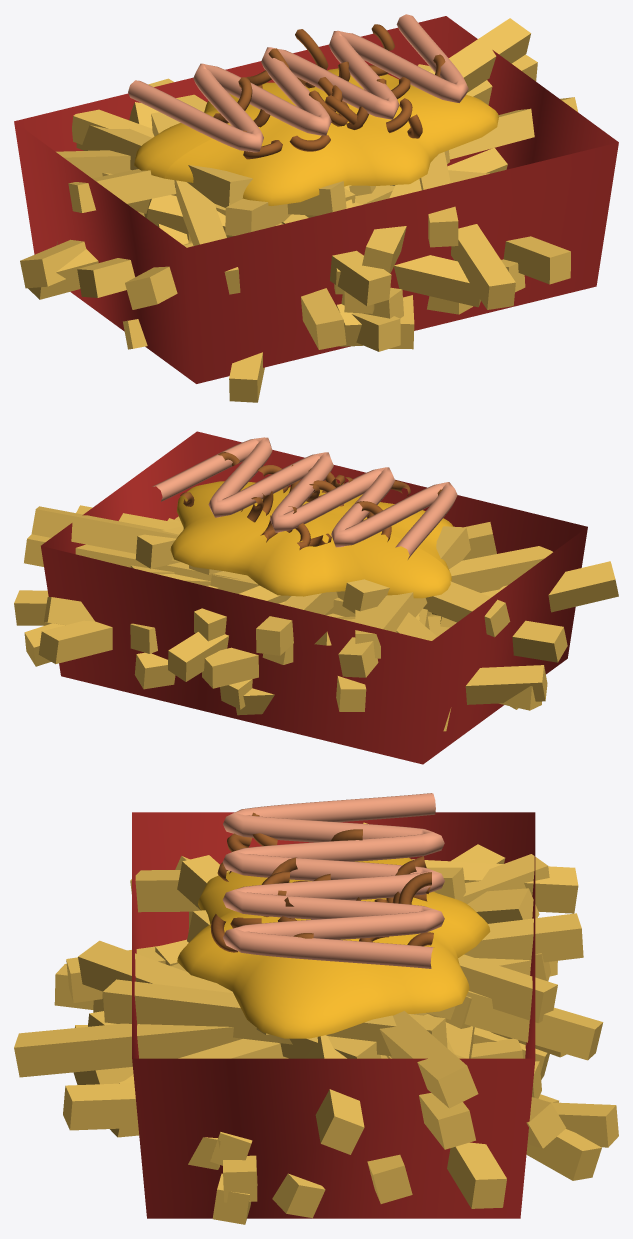
Rendered from animal-fries.glb.
The picture shows the model from 3 angles, top to bottom: view 1: azimuth 30°, elevation 25°; view 2: azimuth 150°, elevation 25°; view 3: azimuth 270°, elevation 25°; orthographic projection. The views are drawn at different scales.
Visible parts, largest first — view 1: Tray, Fries, Melted_Cheese, Spread, Grilled_Onions; view 2: Tray, Fries, Melted_Cheese, Spread, Grilled_Onions; view 3: Fries, Tray, Spread, Melted_Cheese, Grilled_Onions.
Boxes of the visible parts, x1=… form: Tray: x1=14, y1=16, x2=618, y2=383; Fries: x1=20, y1=18, x2=577, y2=402; Melted_Cheese: x1=134, y1=68, x2=498, y2=205; Spread: x1=128, y1=14, x2=468, y2=152; Grilled_Onions: x1=213, y1=24, x2=445, y2=159; Tray: x1=41, y1=431, x2=587, y2=764; Fries: x1=14, y1=505, x2=618, y2=731; Melted_Cheese: x1=170, y1=481, x2=453, y2=598; Spread: x1=152, y1=437, x2=457, y2=559; Grilled_Onions: x1=180, y1=452, x2=442, y2=549; Fries: x1=14, y1=822, x2=618, y2=1224; Tray: x1=132, y1=812, x2=535, y2=1218; Spread: x1=222, y1=793, x2=444, y2=968; Melted_Cheese: x1=177, y1=857, x2=490, y2=1038; Grilled_Onions: x1=210, y1=812, x2=433, y2=952.
Size of the model in its own units: 0.1758 by 0.0708 by 0.1458.
